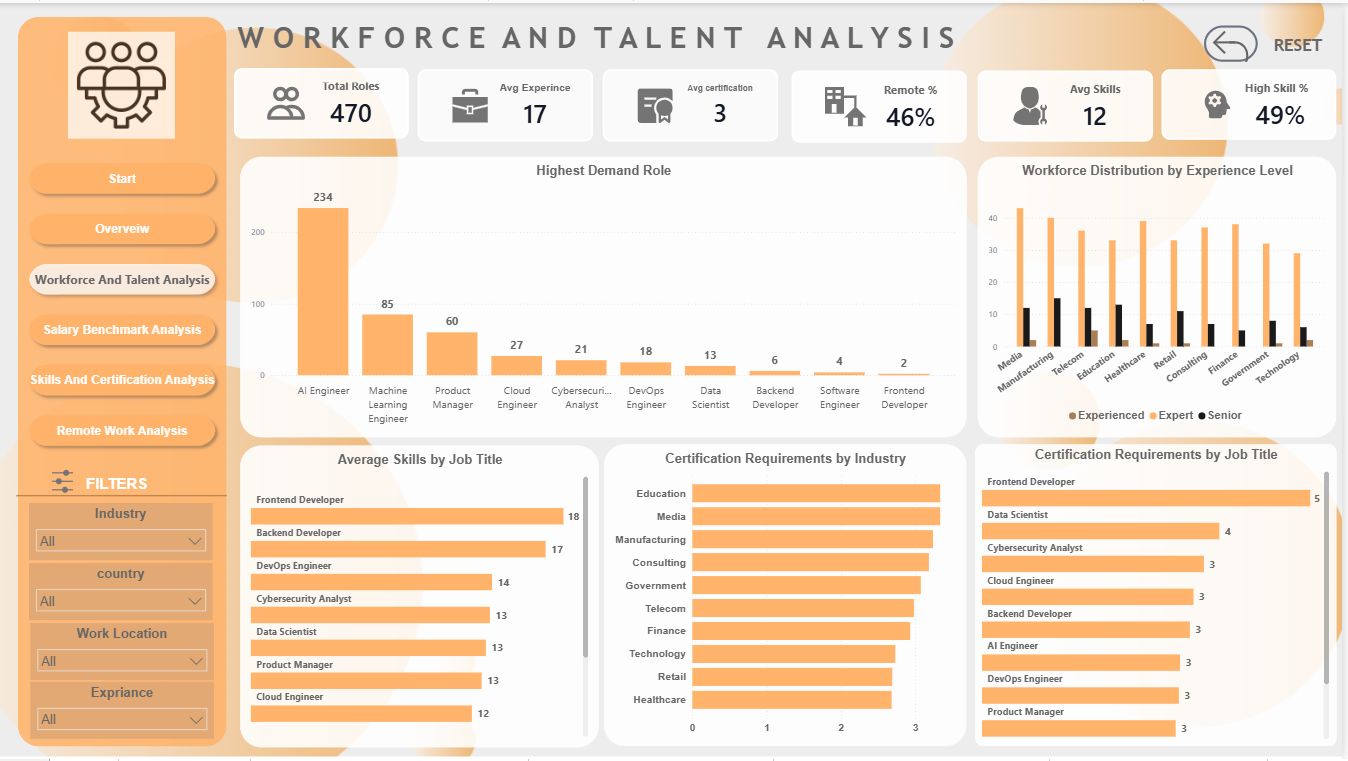

Layout of this report page (visuals, bound fields, positions):
{"tool":"powerbi","page":{"name":"Workforce And Talent Analysis","canvas":[1920,1080],"ordinal":2},"visuals":[{"type":"barChart","title":"Certification Requirements by Industry","fields":{"Category":["Dim_Industry.industry"],"Y":["_Measures (2).Avg certification"]},"box":[864.7,631,517.8,431.5],"z":0},{"type":"clusteredColumnChart","title":"Workforce Distribution by Experience Level","fields":{"Category":["Dim_Industry.industry"],"Series":["Fact_Workforce.Experience Category"],"Y":["_Measures (2).Total Roles"]},"box":[1398.7,219.3,512.4,400.9],"z":1000},{"type":"clusteredColumnChart","title":"Highest Demand Role","fields":{"Category":["Dim_Job.job_title"],"Y":["_Measures (2).Total Roles"]},"box":[345.2,219.3,1037.3,400.9],"z":2000},{"type":"clusteredBarChart","title":"Average  Skills by Job Title","fields":{"Category":["Dim_Job.job_title"],"Y":["_Measures (2).label space holder","_Measures (2).Avg Skills"]},"box":[345.2,632.8,512.4,431.5],"z":3000},{"type":"clusteredBarChart","title":"Certification Requirements by Job Title","fields":{"Category":["Dim_Job.job_title"],"Y":["_Measures (2).label space holder","_Measures (2).Avg Certifications per Job"]},"box":[1395.1,631,516,431.5],"z":4000},{"type":"cardVisual","fields":{"Data":["_Measures (2).Avg Skills"]},"box":[1398.2,96.4,250,101.8],"z":5000},{"type":"cardVisual","fields":{"Data":["_Measures (2).Remote %"]},"box":[1132.1,96.4,250,103.6],"z":6000},{"type":"cardVisual","fields":{"Data":["_Measures (2).Avg Expriance"]},"box":[598.2,94.6,250,103.6],"z":7000},{"type":"cardVisual","fields":{"Data":["_Measures (2).Total Roles"]},"box":[336.2,93.5,249.9,100.7],"z":8000},{"type":"cardVisual","fields":{"Data":["_Measures (2).High Skill Roles %"]},"box":[1661.1,95.3,249.9,100.7],"z":9000},{"type":"cardVisual","fields":{"Data":["_Measures (2).Avg Certifications per Job"]},"box":[862.5,94.6,250,103.6],"z":10000},{"type":"textbox","box":[336.2,19.8,1040.9,79.1],"z":11000},{"type":"shape","box":[27,19.8,298.4,1042.7],"z":12000},{"type":"pageNavigator","box":[34.2,219.3,284,427.9],"z":13000},{"type":"image","box":[86.3,41.3,178,152.8],"z":14000},{"type":"shape","box":[25.3,689.5,300.4,29],"z":15000},{"type":"slicer","title":"Industry","fields":{"Values":["Dim_Industry.industry"]},"box":[43.4,714.8,262.4,81.4],"z":16000},{"type":"slicer","title":"country","fields":{"Values":["Dim_Geo.location"]},"box":[43.4,799.9,262.4,81.4],"z":17000},{"type":"slicer","title":"Work Location","fields":{"Values":["Dim_Worklocation.remote_work"]},"box":[45.2,884.9,262.4,81.4],"z":18000},{"type":"slicer","title":"Expriance","fields":{"Values":["Fact_Workforce.Experience Category"]},"box":[45.2,970,262.4,81.4],"z":19000},{"type":"textbox","box":[18.1,669.6,300.4,45.2],"z":20000},{"type":"image","box":[57.9,662.3,67,41.6],"z":21000},{"type":"actionButton","title":"Reset","box":[1721.4,32.1,76.8,51.8],"z":22000},{"type":"textbox","box":[1816.1,41.1,94.6,76.8],"z":23000}]}

Visuals, with their boxes in screenshot pixels (x1, y1, x2, y2), scaled from the page's 1920x1080 canvas onto the 1348x761 screenshot:
"Certification Requirements by Industry" barChart: 607,445,971,749
"Workforce Distribution by Experience Level" clusteredColumnChart: 982,155,1342,437
"Highest Demand Role" clusteredColumnChart: 242,155,971,437
"Average  Skills by Job Title" clusteredBarChart: 242,446,602,750
"Certification Requirements by Job Title" clusteredBarChart: 979,445,1342,749
cardVisual - _Measures (2).Avg Skills: 982,68,1157,140
cardVisual - _Measures (2).Remote %: 795,68,970,141
cardVisual - _Measures (2).Avg Expriance: 420,67,596,140
cardVisual - _Measures (2).Total Roles: 236,66,411,137
cardVisual - _Measures (2).High Skill Roles %: 1166,67,1342,138
cardVisual - _Measures (2).Avg Certifications per Job: 606,67,781,140
textbox: 236,14,967,70
shape: 19,14,228,749
pageNavigator: 24,155,223,456
image: 61,29,186,137
shape: 18,486,229,506
"Industry" slicer: 30,504,215,561
"country" slicer: 30,564,215,621
"Work Location" slicer: 32,624,216,681
"Expriance" slicer: 32,683,216,741
textbox: 13,472,224,504
image: 41,467,88,496
"Reset" actionButton: 1209,23,1262,59
textbox: 1275,29,1341,83
